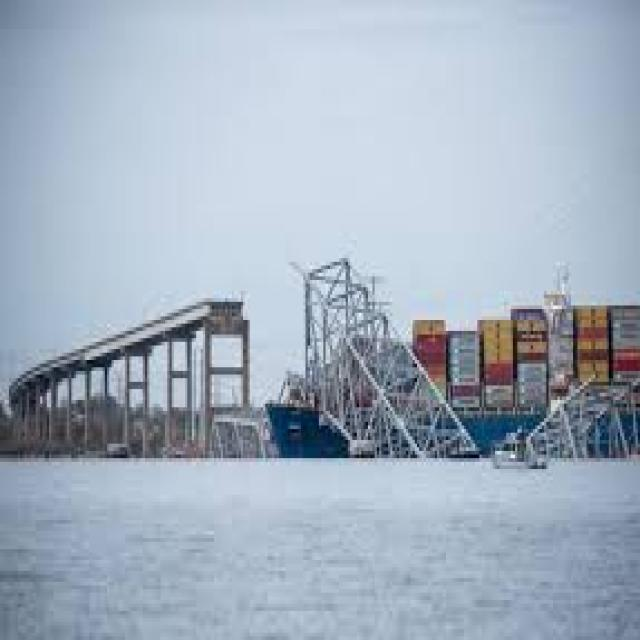bridge collapse: (109, 172, 582, 540)
